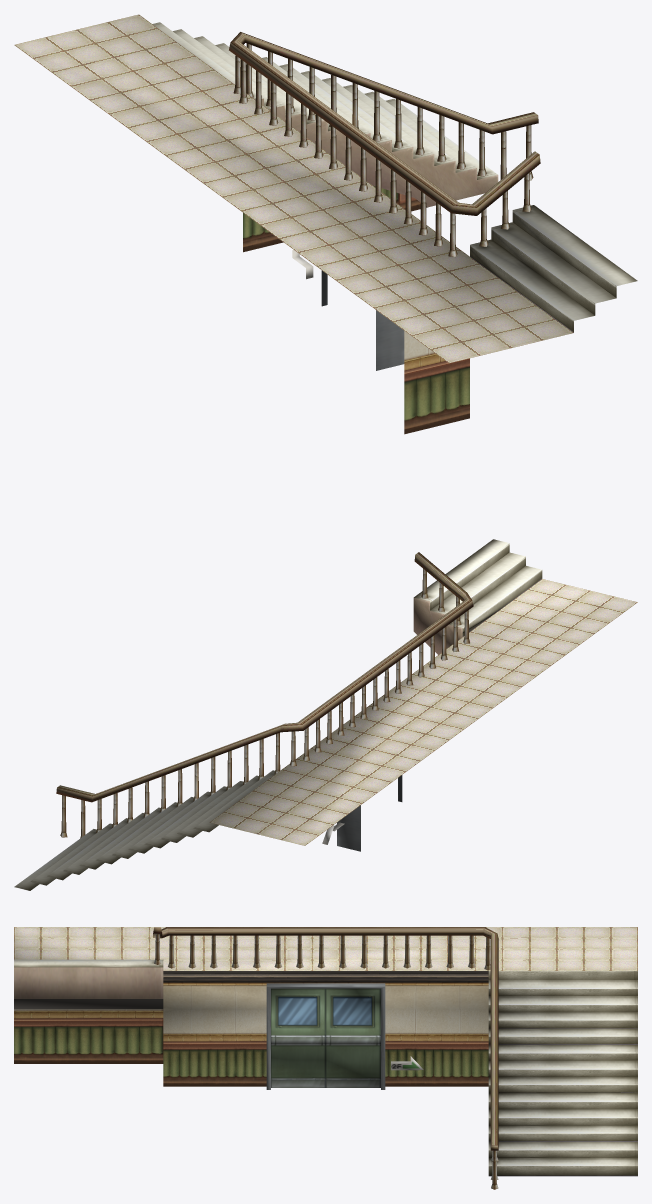
The model's file is a_SWIstair01.glb.
The picture shows the model from 3 angles, top to bottom: view 1: azimuth 30°, elevation 25°; view 2: azimuth 150°, elevation 25°; view 3: azimuth 270°, elevation 25°; orthographic projection. The views are drawn at different scales.
Visible parts, largest first — view 1: a_SWIstair01; view 2: a_SWIstair01; view 3: a_SWIstair01.
Part boxes in pixels (bbox=[...]): a_SWIstair01: bbox=[14, 14, 637, 434]; a_SWIstair01: bbox=[14, 539, 637, 890]; a_SWIstair01: bbox=[14, 927, 637, 1189].
Size of the model in its own units: 6.44 by 3.69 by 11.5.
Materials: 5 (5 with a texture image).
